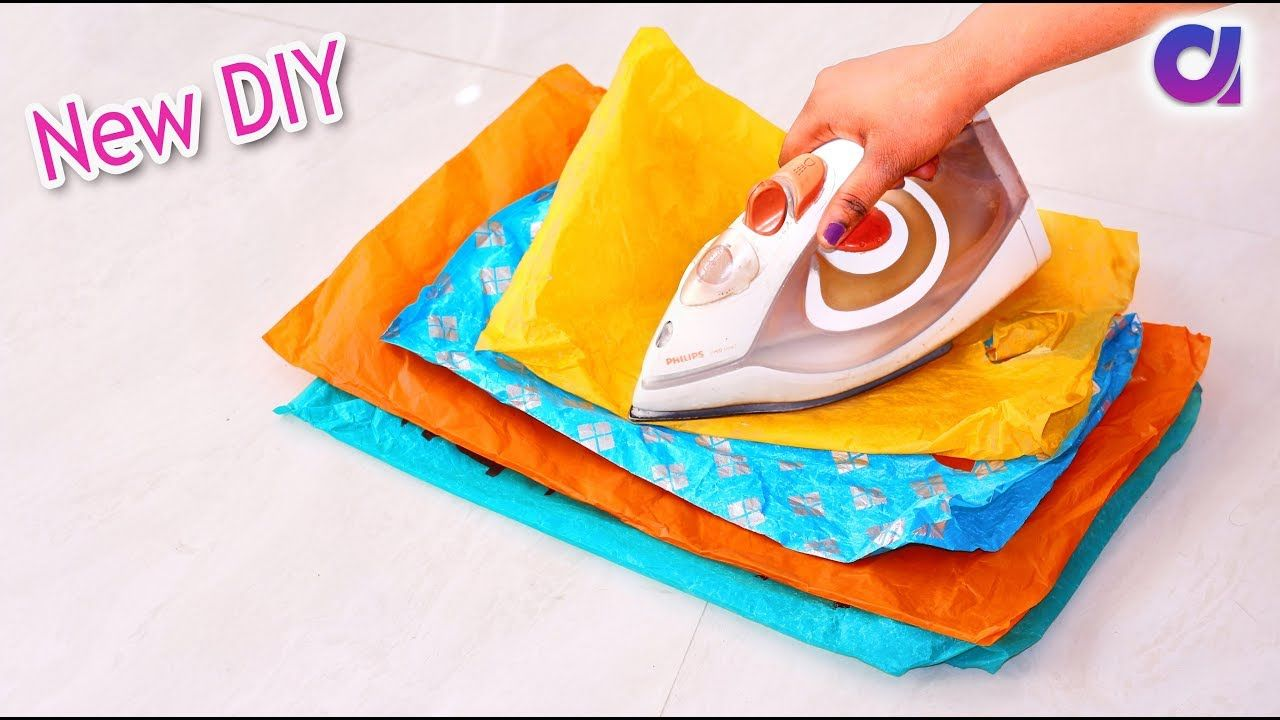plastic_bagwdw: (216, 82, 1234, 673), (226, 165, 1274, 716), (364, 105, 1190, 686), (421, 9, 1183, 581)
